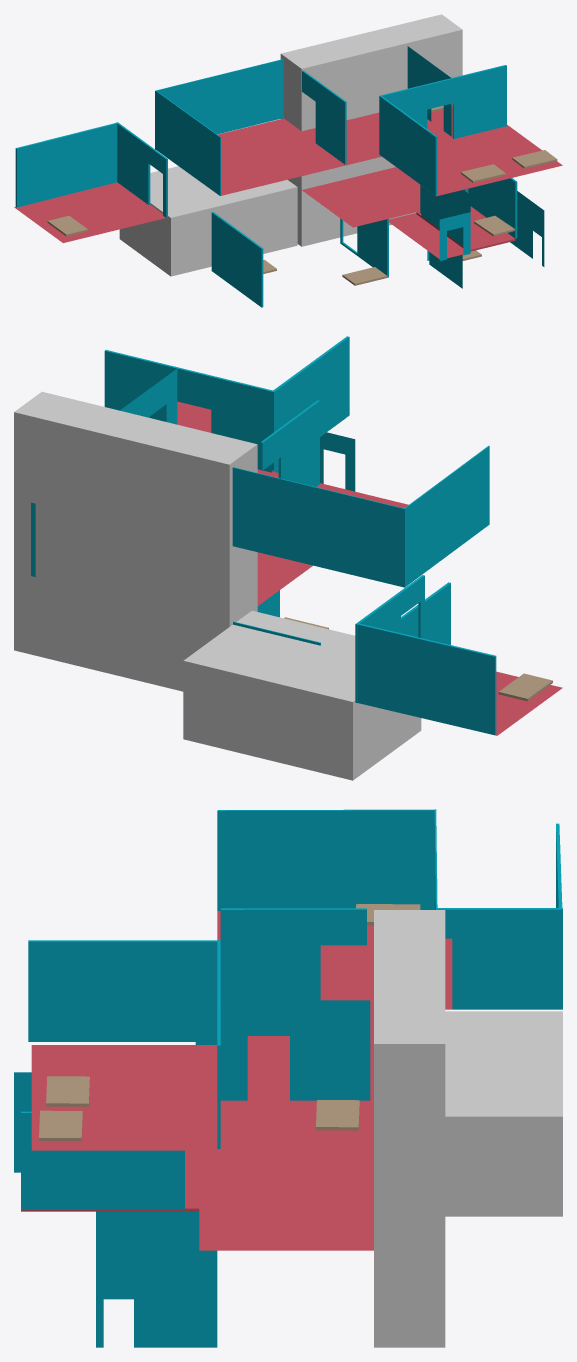
File: myHome.glb
The picture shows the model from 3 angles, top to bottom: view 1: azimuth 30°, elevation 25°; view 2: azimuth 150°, elevation 25°; view 3: azimuth 270°, elevation 25°; orthographic projection. The views are drawn at different scales.
Visible parts, largest first — view 1: Mesh_Mesh_head_geo.001_lambert2SG.001; view 2: Mesh_Mesh_head_geo.001_lambert2SG.001; view 3: Mesh_Mesh_head_geo.001_lambert2SG.001.
Boxes of the visible parts, x1,y1,x2,y2 form: Mesh_Mesh_head_geo.001_lambert2SG.001: [14, 14, 562, 307]; Mesh_Mesh_head_geo.001_lambert2SG.001: [14, 336, 562, 780]; Mesh_Mesh_head_geo.001_lambert2SG.001: [14, 809, 562, 1347].
Bounding box in the file's own units: 218 × 95 × 154.
